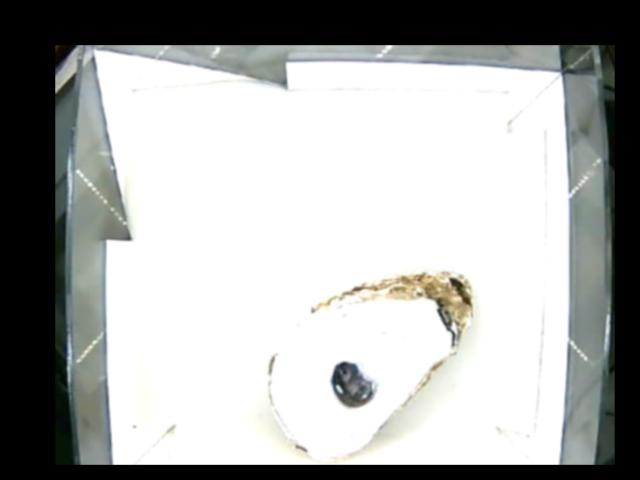Shell: (267, 269, 476, 463)
